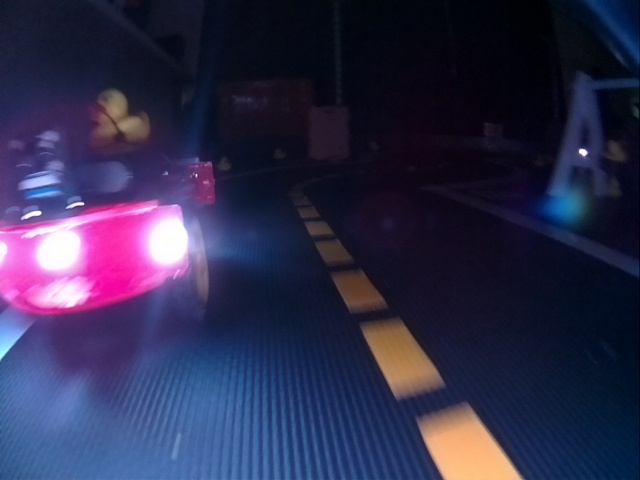Duckie: (86, 89, 153, 144)
Duckiebot: (0, 157, 219, 317)
